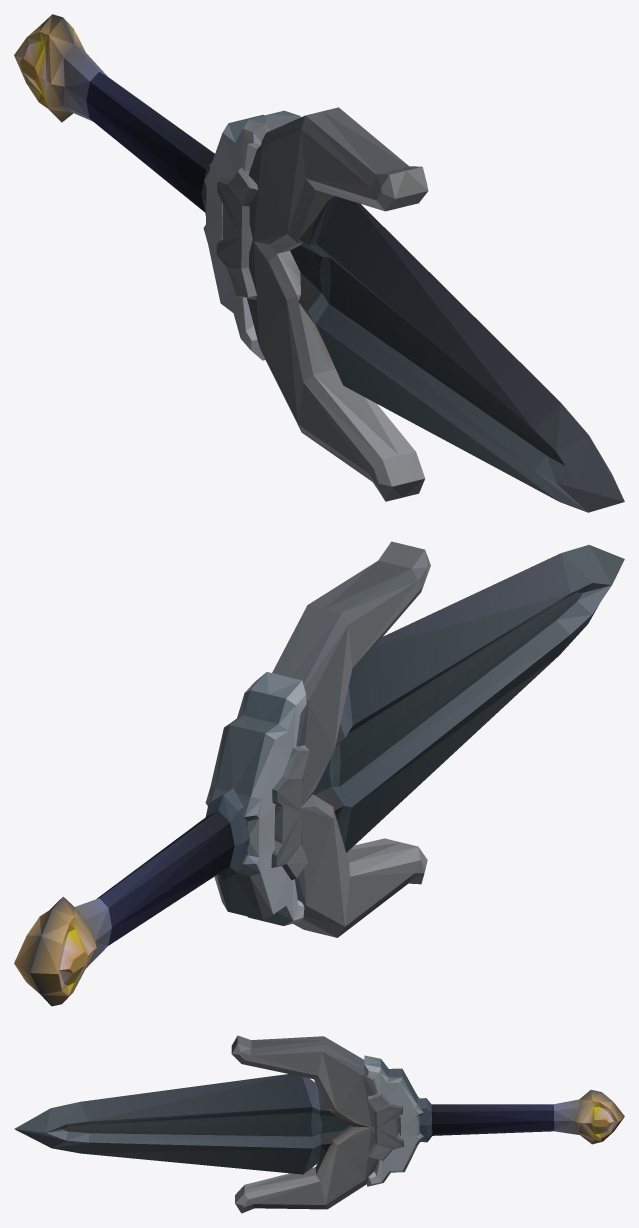
The model's file is weapon_sword_silver_3.fbx.
3 renders of one model, top to bottom at view 1: azimuth 30°, elevation 25°; view 2: azimuth 150°, elevation 25°; view 3: azimuth 270°, elevation 25°, orthographic. The views are drawn at different scales.
Parts seen in each view (by area): view 1: weapon_sword_silver_3; view 2: weapon_sword_silver_3; view 3: weapon_sword_silver_3.
Part boxes in pixels (<box>): weapon_sword_silver_3: <box>14,14,624,512</box>; weapon_sword_silver_3: <box>14,541,624,1006</box>; weapon_sword_silver_3: <box>14,1035,624,1213</box>.
Size of the model in its own units: 0.1205 by 0.6536 by 2.13.
